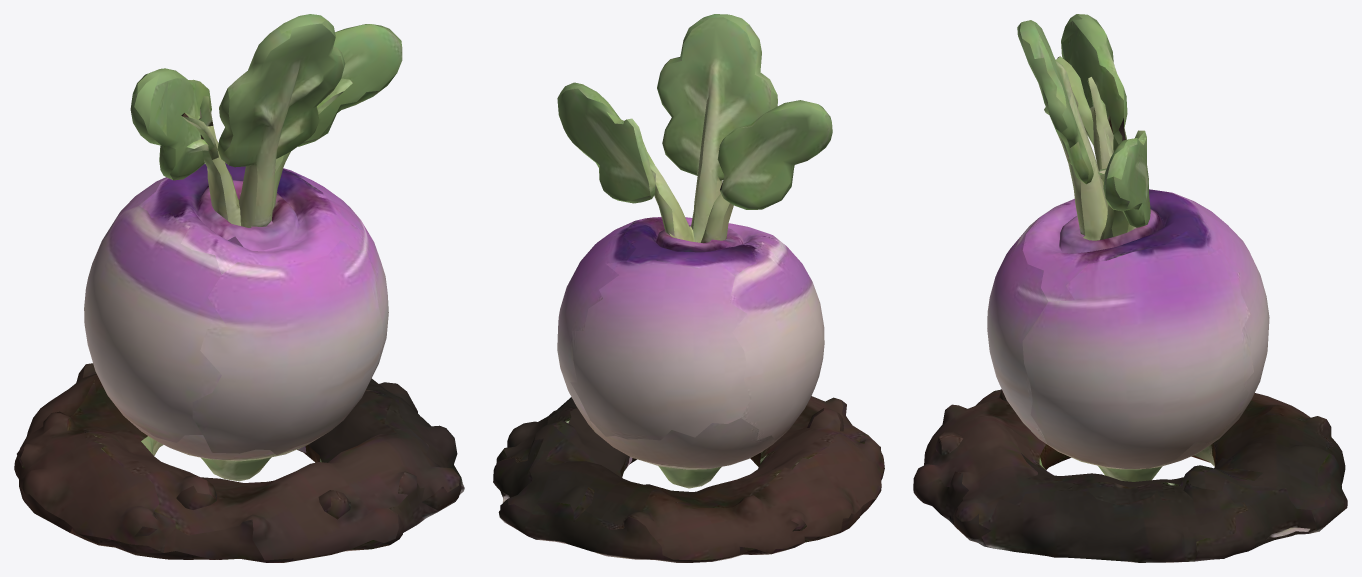
The model's file is crop_turnip.glb.
3 views of the same model, side by side, from view 1: azimuth 30°, elevation 25°; view 2: azimuth 150°, elevation 25°; view 3: azimuth 270°, elevation 25° (orthographic). The views are drawn at different scales.
Parts seen in each view (by area): view 1: crop_turnip_s15; view 2: crop_turnip_s15; view 3: crop_turnip_s15.
Part boxes in pixels (box(x1,y1,x2,y2)): crop_turnip_s15: box(14, 14, 464, 562); crop_turnip_s15: box(493, 14, 884, 562); crop_turnip_s15: box(913, 14, 1347, 562).
Size of the model in its own units: 0.8116 by 1 by 0.8492.
1 material, 1 textured.
